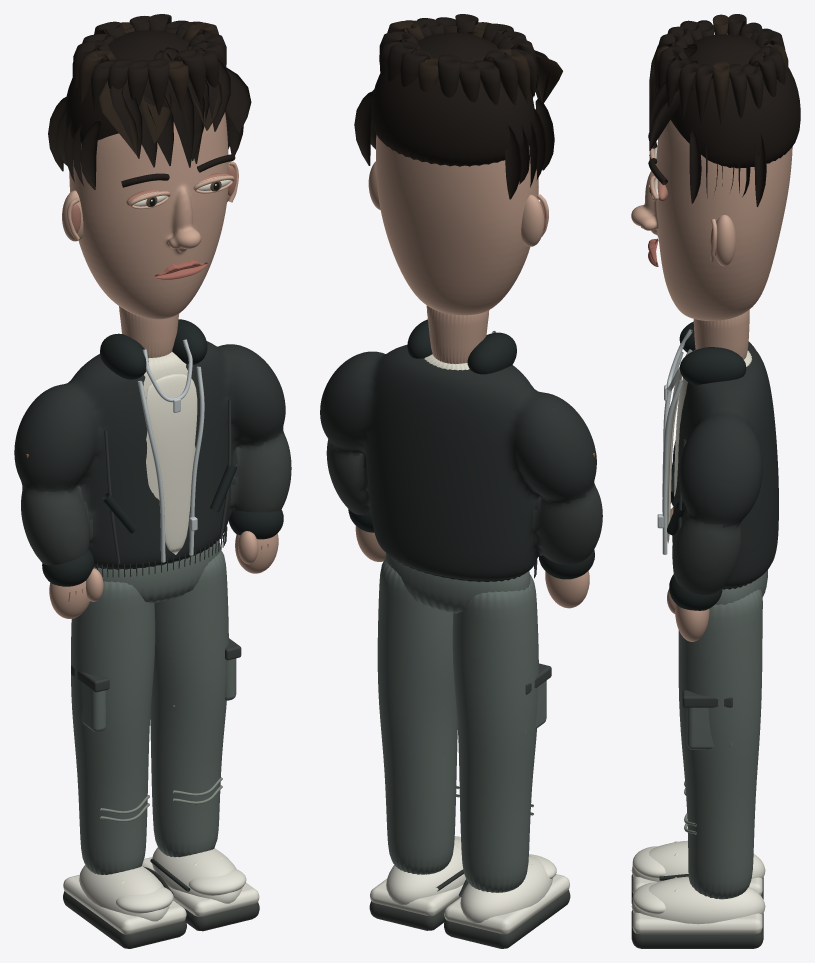
File: milan-avatar.glb
The picture shows the model from 3 angles, left to right: view 1: azimuth 30°, elevation 25°; view 2: azimuth 150°, elevation 25°; view 3: azimuth 270°, elevation 25°; orthographic projection. The views are drawn at different scales.
Parts seen in each view (by area): view 1: Bomber / continuous padded silhouette, Head / unified sculpt, Left cargo leg, Right cargo leg, Visible T-shirt opening, Hair cap, Cargo waist, Relaxed sneaker, Relaxed sneaker.001, Midsole, Neck, Sole (+31 smaller); view 2: Bomber / continuous padded silhouette, Left cargo leg, Right cargo leg, Head / unified sculpt, Hair cap, Cargo waist, Relaxed sneaker, Neck, Relaxed sneaker.001, Midsole, Sole, Ribbed standing collar (+18 smaller); view 3: Bomber / continuous padded silhouette, Right cargo leg, Head / unified sculpt, Hair cap, Relaxed sneaker.001, Midsole.001, Sole.001, Ribbed standing collar.001, Neck, Relaxed sneaker, Cargo side pocket.001, Silver zip teeth.001 (+24 smaller).
Boxes of the visible parts, x1=… form: Bomber / continuous padded silhouette: x1=14, y1=341, x2=291, y2=568; Head / unified sculpt: x1=69, y1=112, x2=228, y2=319; Left cargo leg: x1=71, y1=581, x2=155, y2=874; Right cargo leg: x1=150, y1=550, x2=228, y2=857; Visible T-shirt opening: x1=146, y1=374, x2=197, y2=554; Hair cap: x1=65, y1=30, x2=188, y2=143; Cargo waist: x1=93, y1=540, x2=220, y2=603; Relaxed sneaker: x1=79, y1=865, x2=169, y2=921; Relaxed sneaker.001: x1=152, y1=847, x2=242, y2=903; Midsole: x1=63, y1=874, x2=186, y2=934; Neck: x1=119, y1=306, x2=179, y2=357; Sole: x1=63, y1=891, x2=186, y2=948; Bomber / continuous padded silhouette: x1=320, y1=345, x2=602, y2=580; Left cargo leg: x1=452, y1=574, x2=538, y2=892; Right cargo leg: x1=377, y1=558, x2=457, y2=874; Head / unified sculpt: x1=376, y1=135, x2=538, y2=315; Hair cap: x1=371, y1=32, x2=534, y2=166; Cargo waist: x1=385, y1=553, x2=530, y2=613; Relaxed sneaker: x1=460, y1=856, x2=552, y2=922; Neck: x1=426, y1=305, x2=489, y2=363; Relaxed sneaker.001: x1=386, y1=837, x2=465, y2=904; Midsole: x1=444, y1=874, x2=569, y2=934; Sole: x1=444, y1=890, x2=570, y2=948; Ribbed standing collar: x1=467, y1=332, x2=516, y2=374; Bomber / continuous padded silhouette: x1=672, y1=341, x2=778, y2=594; Right cargo leg: x1=678, y1=589, x2=762, y2=899; Head / unified sculpt: x1=631, y1=120, x2=792, y2=320; Hair cap: x1=670, y1=34, x2=800, y2=168; Relaxed sneaker.001: x1=631, y1=876, x2=765, y2=924; Midsole.001: x1=632, y1=900, x2=762, y2=934; Sole.001: x1=631, y1=910, x2=763, y2=948; Ribbed standing collar.001: x1=679, y1=347, x2=746, y2=385; Neck: x1=693, y1=309, x2=749, y2=359; Relaxed sneaker: x1=631, y1=840, x2=765, y2=881; Cargo side pocket.001: x1=686, y1=707, x2=732, y2=749; Silver zip teeth.001: x1=662, y1=380, x2=683, y2=554.
Size of the model in its own units: 1.69 by 5.35 by 0.9368.
